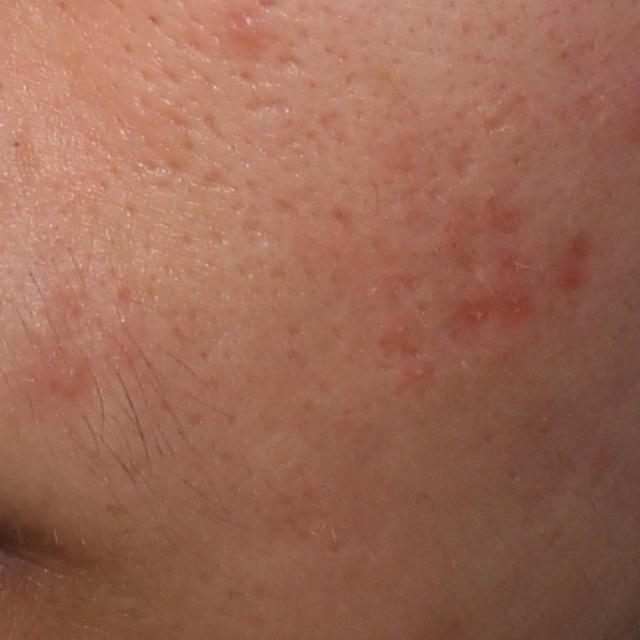atrophic_scar: (482, 91, 542, 134), (446, 127, 479, 187), (242, 94, 293, 122), (276, 54, 305, 76)
papule: (229, 8, 267, 54), (48, 361, 85, 398)
